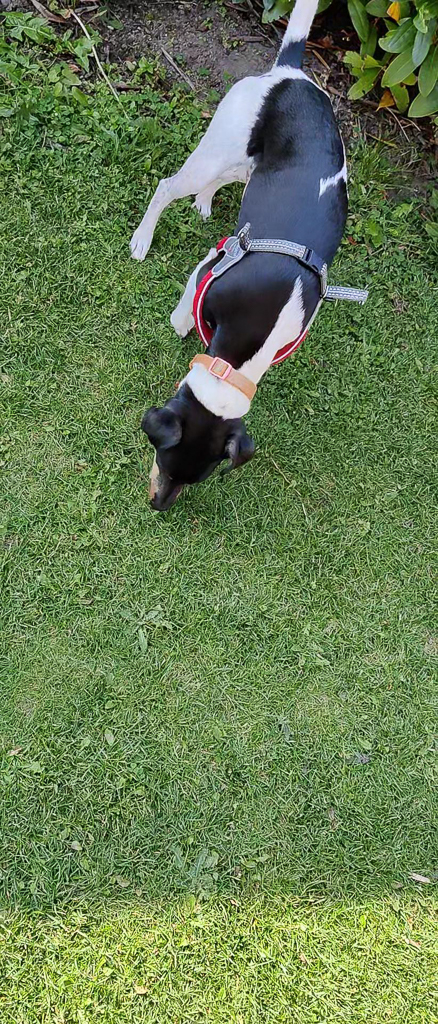Dog: (109, 0, 382, 537)
